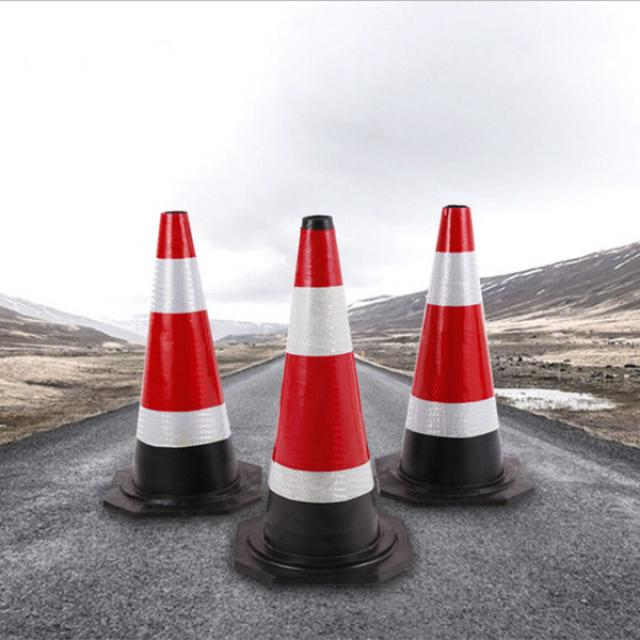reflective_cone: (232, 211, 417, 587), (98, 209, 263, 512), (372, 202, 534, 506)
